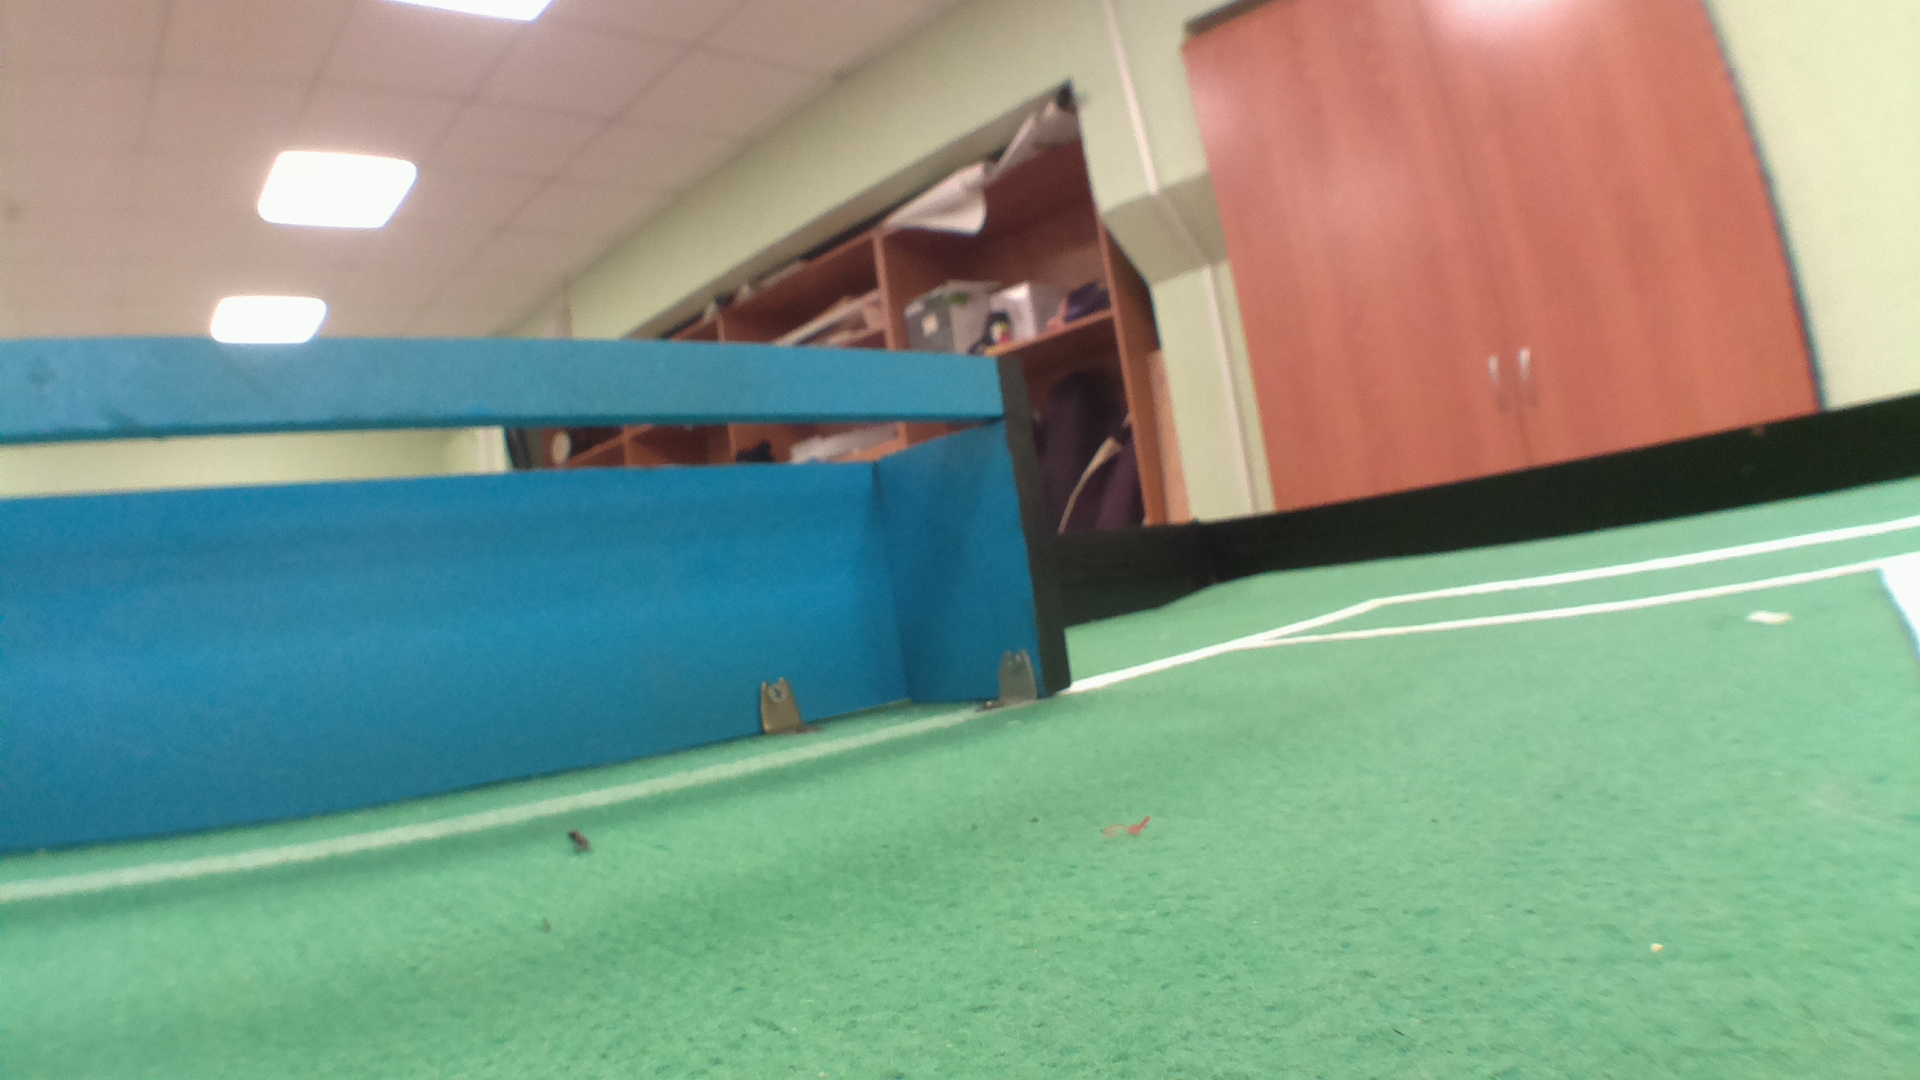BlueGoal: (3, 342, 1031, 727)
